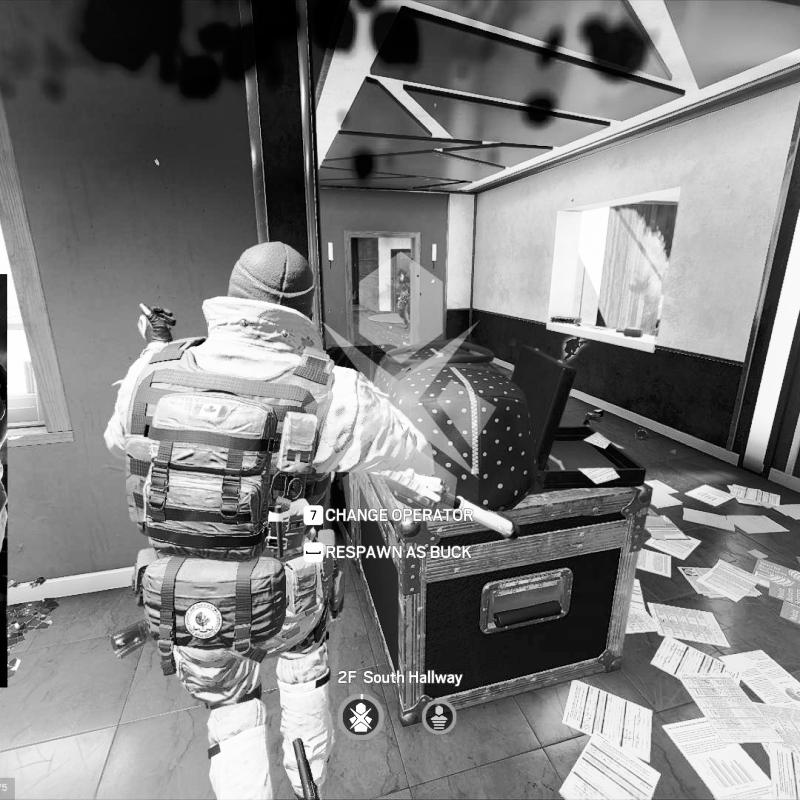Character: (102, 239, 445, 800), (394, 269, 411, 329)
Head: (227, 241, 316, 318), (397, 269, 407, 277)
